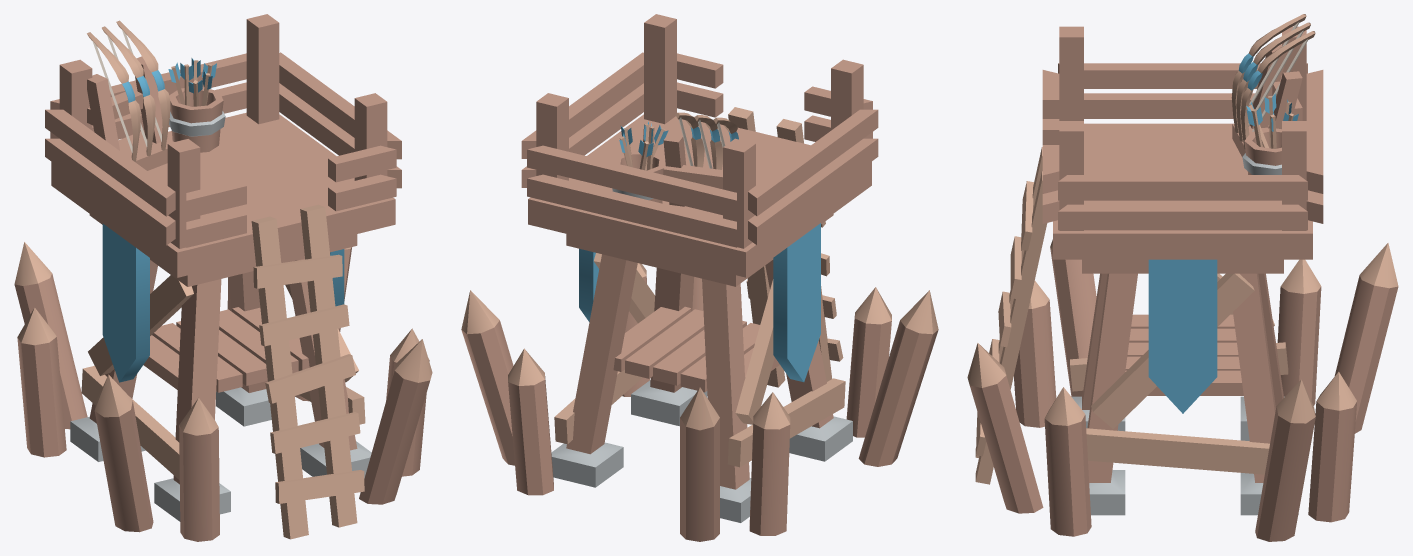
Rendered from watchtower_part.glb.
3 views of the same model, side by side, from view 1: azimuth 30°, elevation 25°; view 2: azimuth 150°, elevation 25°; view 3: azimuth 270°, elevation 25° (orthographic). The views are drawn at different scales.
Visible parts, largest first — view 1: X_building_watchtower_blue; view 2: X_building_watchtower_blue; view 3: X_building_watchtower_blue.
Boxes of the visible parts, x1,y1,x2,y2 form: X_building_watchtower_blue: [14, 14, 432, 541]; X_building_watchtower_blue: [461, 14, 938, 541]; X_building_watchtower_blue: [967, 14, 1398, 541].
Bounding box in the file's own units: 1.04 × 1.11 × 1.04.
